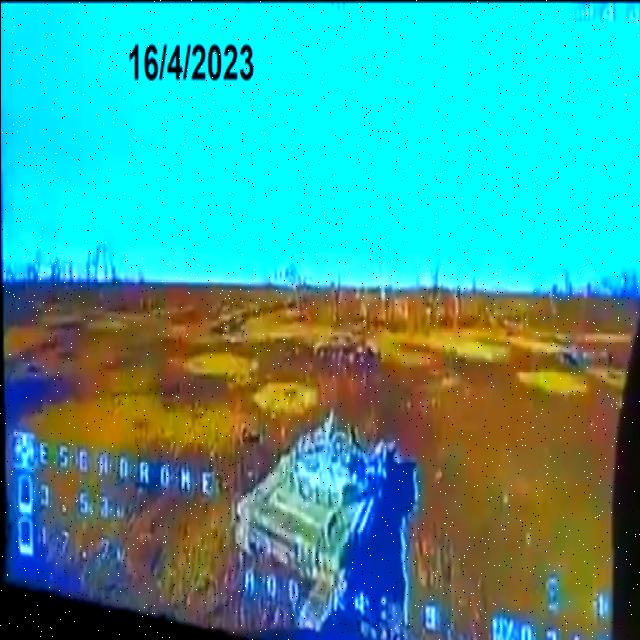TANK: (231, 400, 391, 594)
